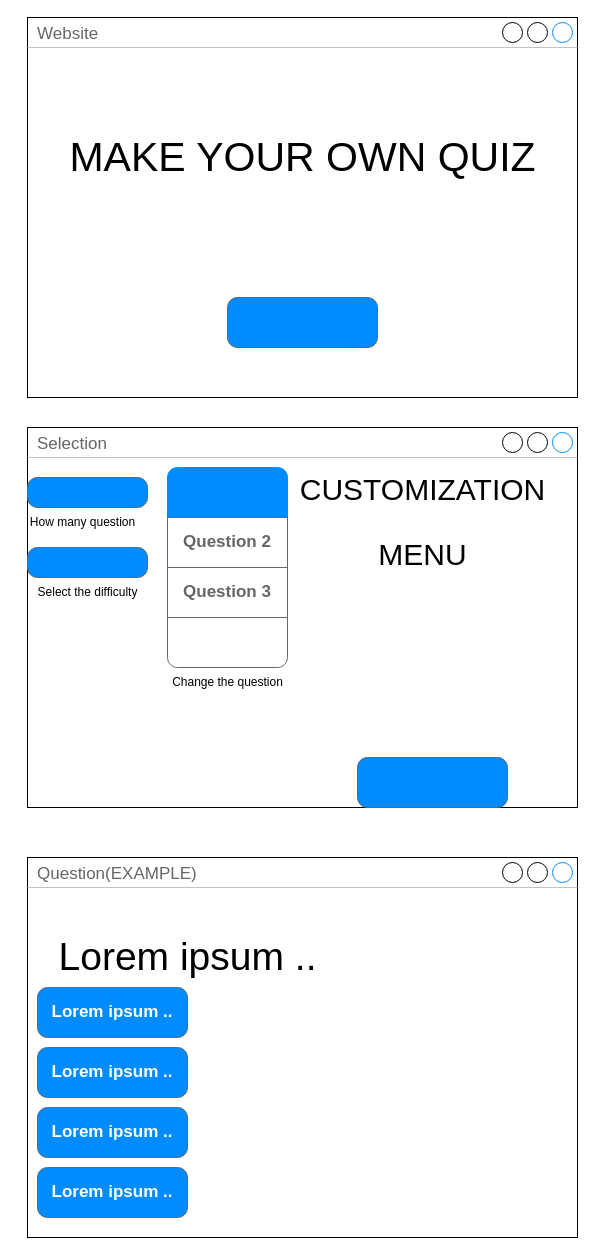
This 595x1255 diagram has some shape labels left out. The shapes that lost their labels are listed below. From the top down, each one's centre as x and y in pixels, then its label:
At pixel 302 322: "Play".
At pixel 227 492: "Question 1".
At pixel 227 642: "Question 4".
At pixel 432 782: "Press to Confirm the setting".
